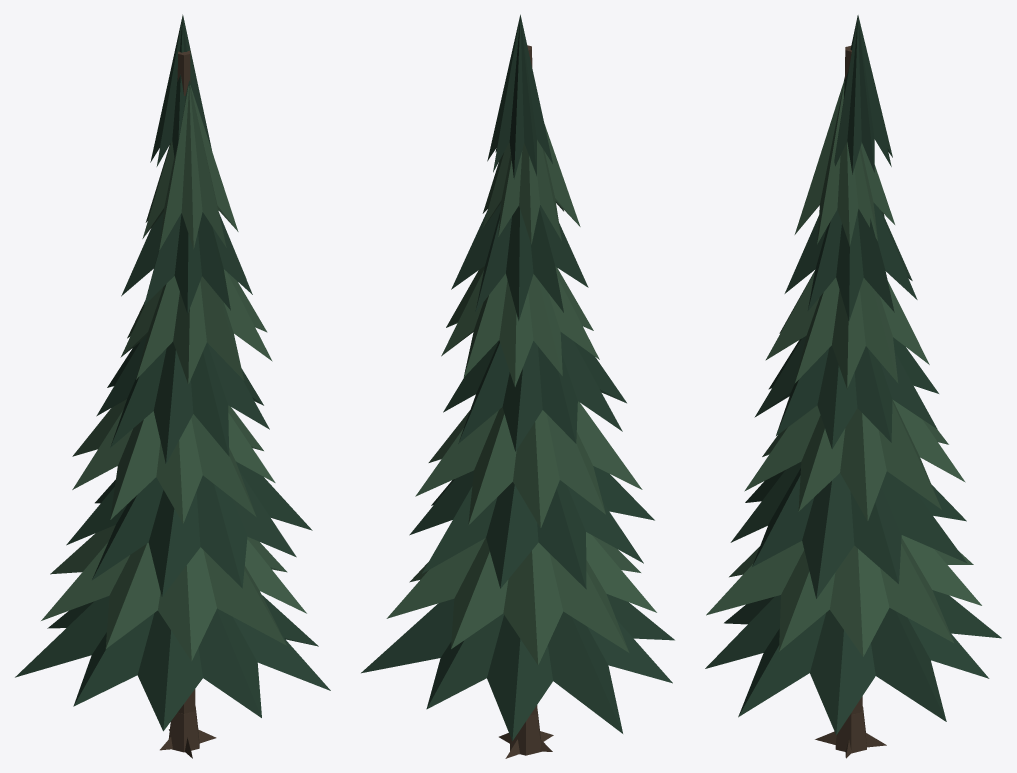
Rendered from pine_tall.glb.
3 views of the same model, side by side, from view 1: azimuth 30°, elevation 25°; view 2: azimuth 150°, elevation 25°; view 3: azimuth 270°, elevation 25° (orthographic).
Visible parts, largest first — view 1: pine_tall; view 2: pine_tall; view 3: pine_tall.
Part boxes in pixels (x1,y1,x2,y2): pine_tall: [15, 14, 330, 758]; pine_tall: [361, 14, 674, 758]; pine_tall: [705, 15, 1001, 758].
Size of what is drawn, in the model's own units: 3.39 by 9.04 by 3.33.
Materials: 1 (1 with a texture image).
